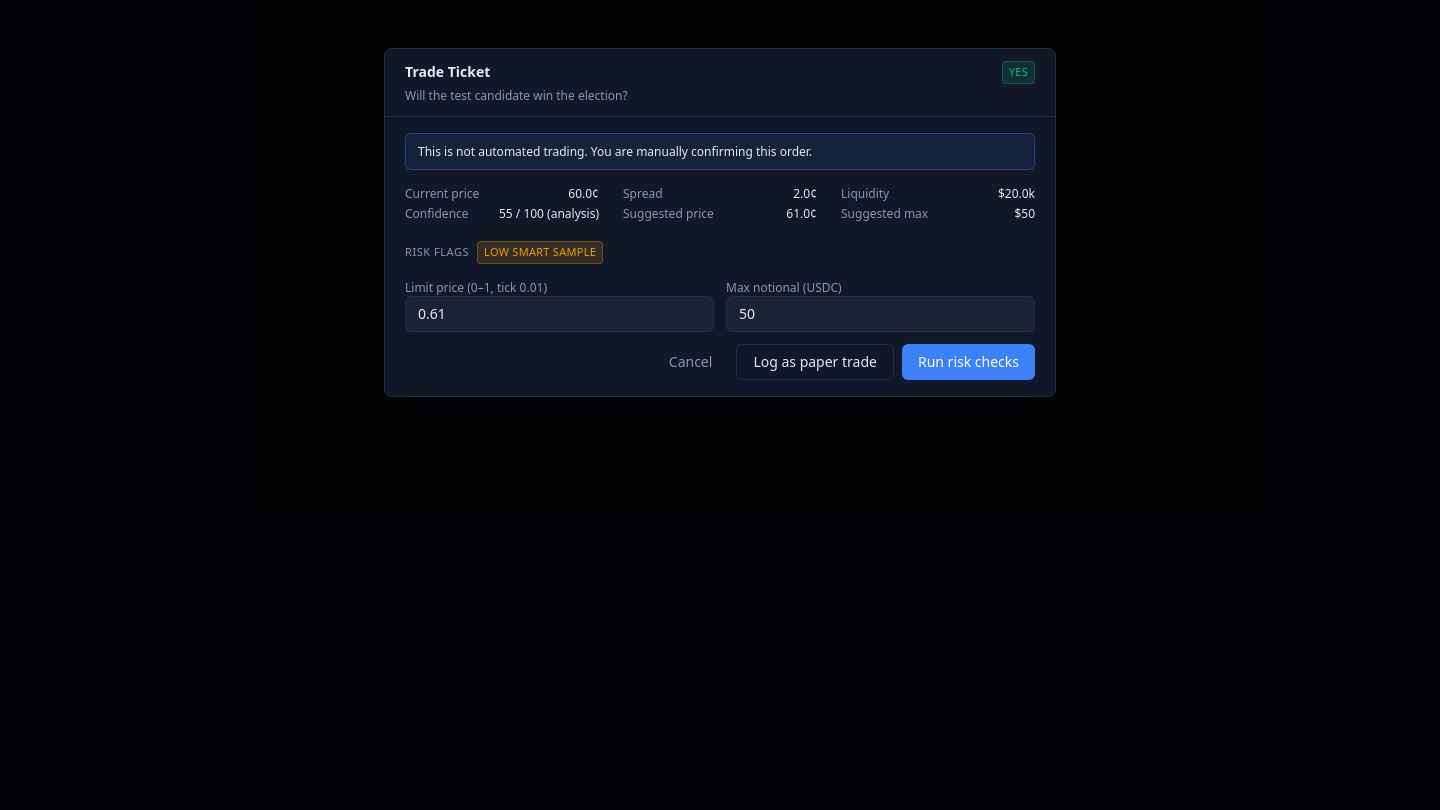
Test: TradeTicketModal › enables Confirm only when every gate passes
The width and height of the screenshot is (1440, 810).
Click the button "Run risk checks" at (968, 362), box [902,344,1035,380]
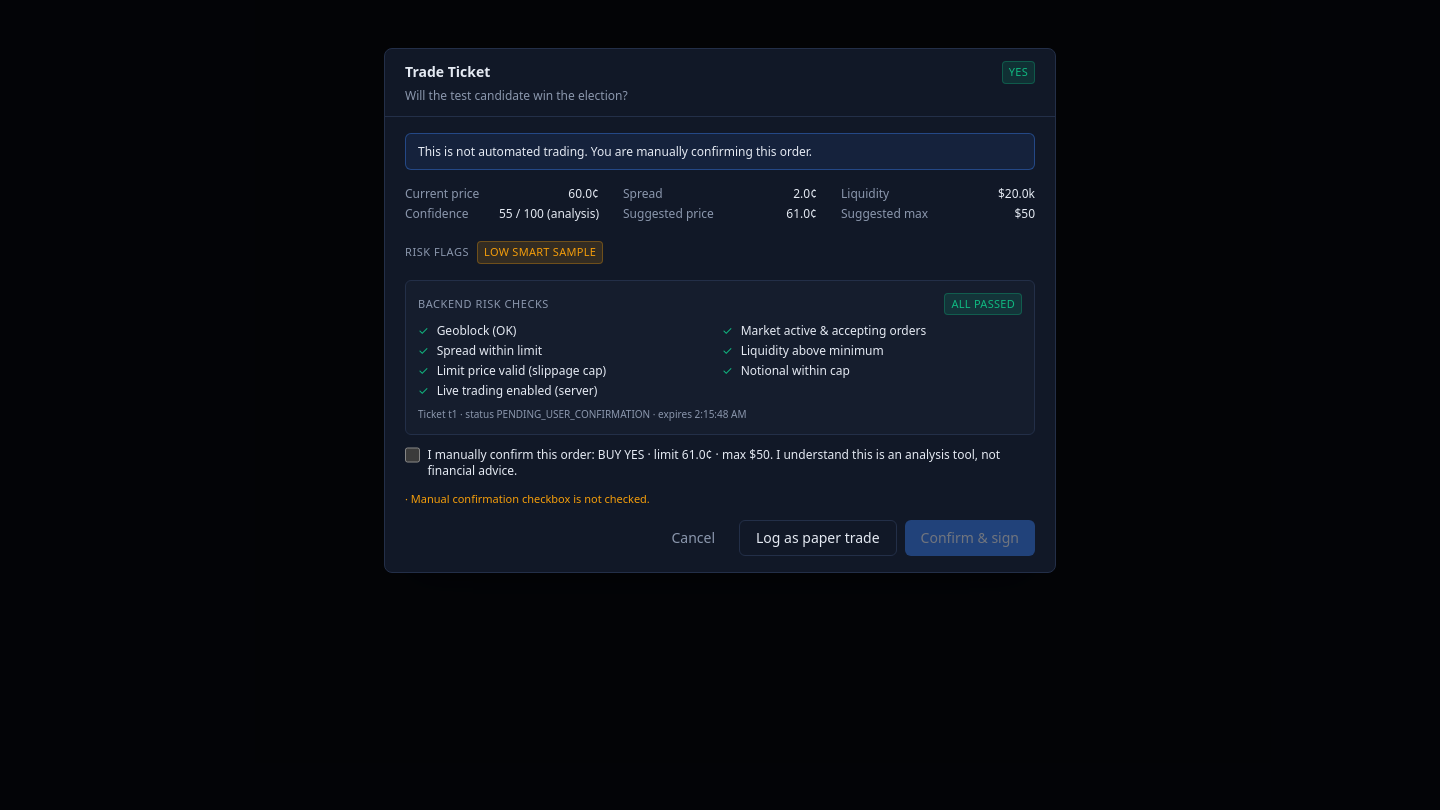
Check: the button "Confirm & sign" is disabled, box [905,520,1035,556]
Click the checkbox named "Manual confirmation" at (412, 455), box [405,447,420,463]
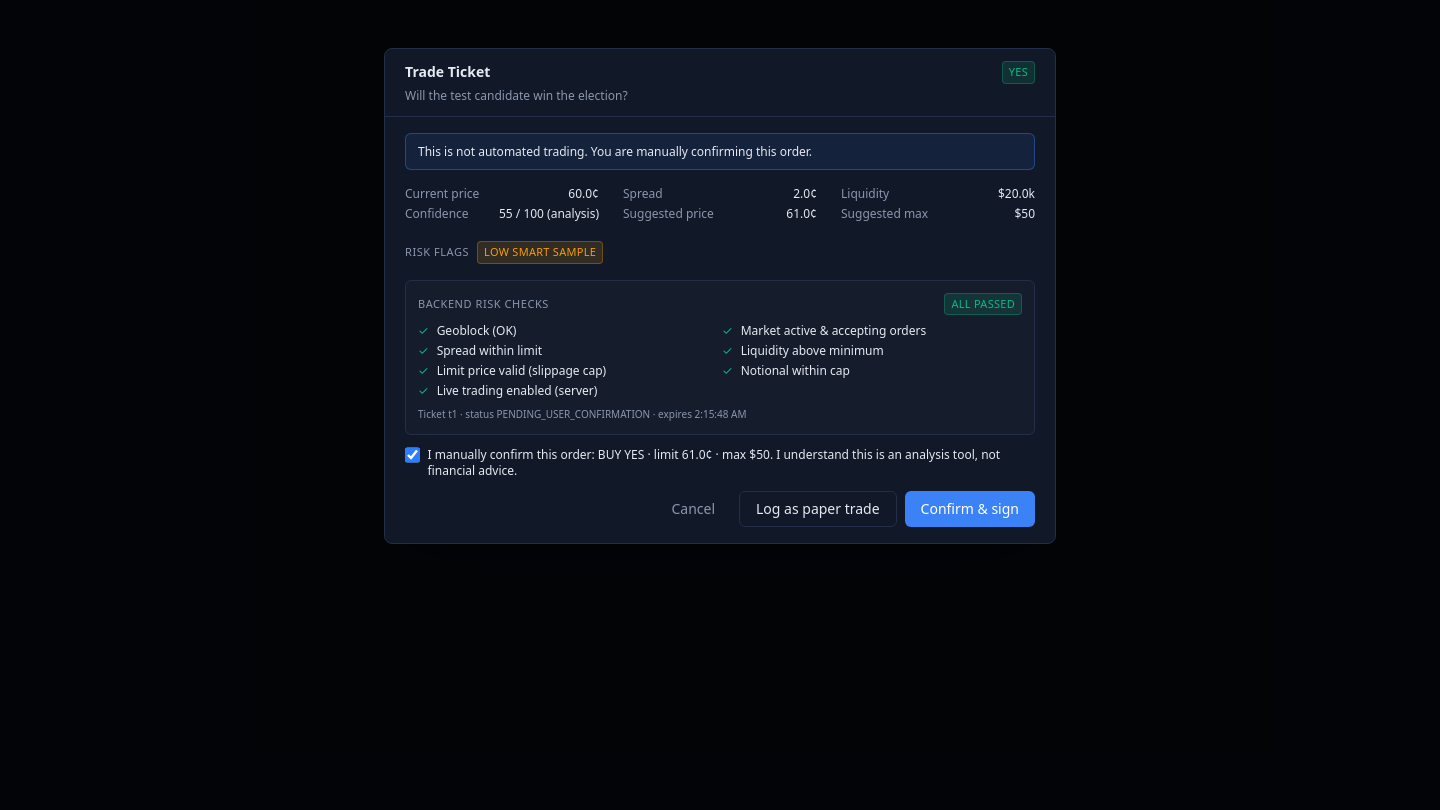
Check: the button "Confirm & sign" is enabled, box [905,491,1035,527]
